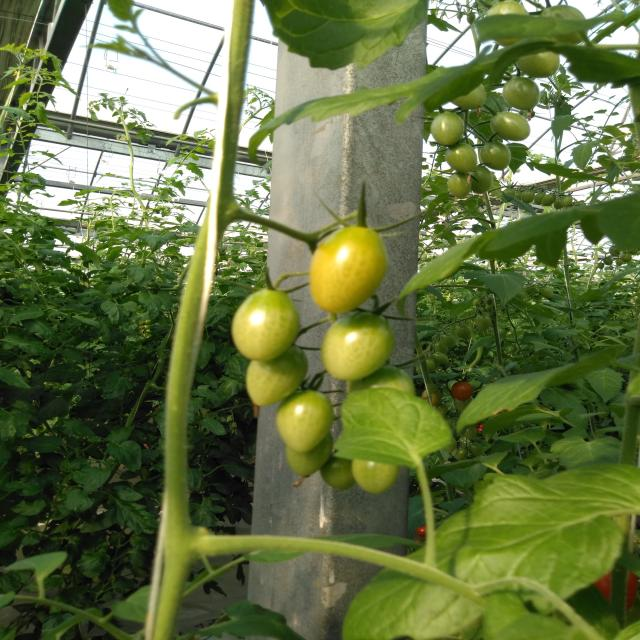c-half-riped: (310, 227, 388, 314), (451, 381, 472, 401), (422, 388, 442, 406)
c-unriped: (321, 310, 394, 382), (232, 288, 301, 362), (246, 344, 309, 406), (275, 389, 334, 454), (347, 365, 416, 397), (286, 430, 332, 477), (485, 2, 530, 47), (539, 5, 589, 45), (352, 459, 400, 496), (502, 76, 540, 112), (320, 456, 357, 491), (490, 112, 530, 142), (515, 52, 560, 78), (430, 112, 464, 146), (445, 142, 477, 174), (449, 84, 486, 110), (480, 141, 511, 171), (468, 164, 493, 195), (448, 170, 472, 200), (475, 314, 491, 331), (440, 332, 456, 348), (455, 324, 471, 339), (501, 187, 515, 203), (468, 442, 483, 456), (432, 352, 449, 364), (522, 189, 535, 204), (541, 194, 557, 206), (539, 286, 553, 299), (534, 191, 546, 205), (456, 448, 469, 460), (561, 194, 572, 207), (554, 196, 562, 210), (515, 191, 522, 201)
